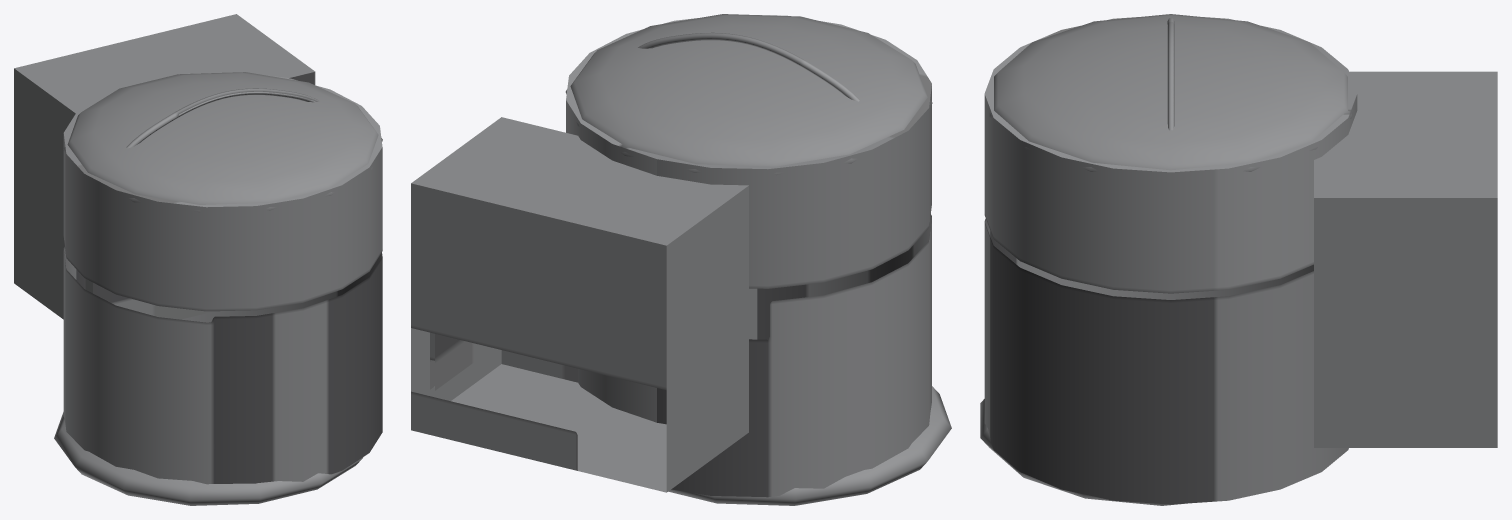
3 renders of one model, left to right at view 1: azimuth 30°, elevation 25°; view 2: azimuth 150°, elevation 25°; view 3: azimuth 270°, elevation 25°, orthographic. The views are drawn at different scales.
Size of the model in its own units: 1.4 by 1.59 by 1.77.
